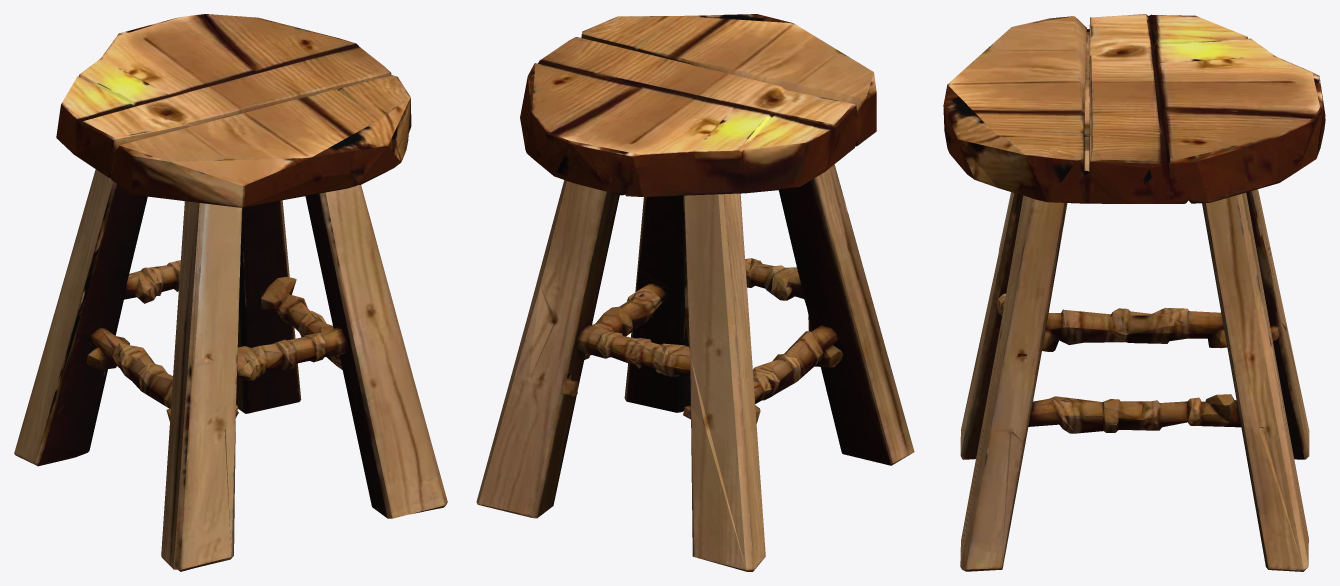
The model's file is prop_stool_wood_01.glb.
The picture shows the model from 3 angles, left to right: view 1: azimuth 30°, elevation 25°; view 2: azimuth 150°, elevation 25°; view 3: azimuth 270°, elevation 25°; orthographic projection. The views are drawn at different scales.
Parts seen in each view (by area): view 1: geometry_0; view 2: geometry_0; view 3: geometry_0.
Boxes of the visible parts, x1,y1,x2,y2 form: geometry_0: [14, 14, 447, 571]; geometry_0: [476, 14, 914, 571]; geometry_0: [943, 14, 1325, 571].
Size of the model in its own units: 0.7713 by 0.9992 by 0.835.
1 material, 1 textured.
